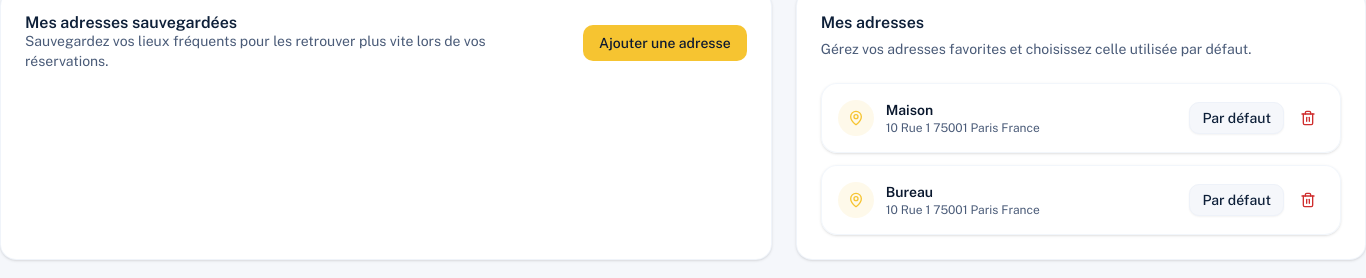
it: UserAddressesManager flows › sets an address as default
This screenshot has width=1366, height=278.
Click the button "Par défaut" in the row of "Bureau" at (1237, 200), box [1189,184,1284,216]
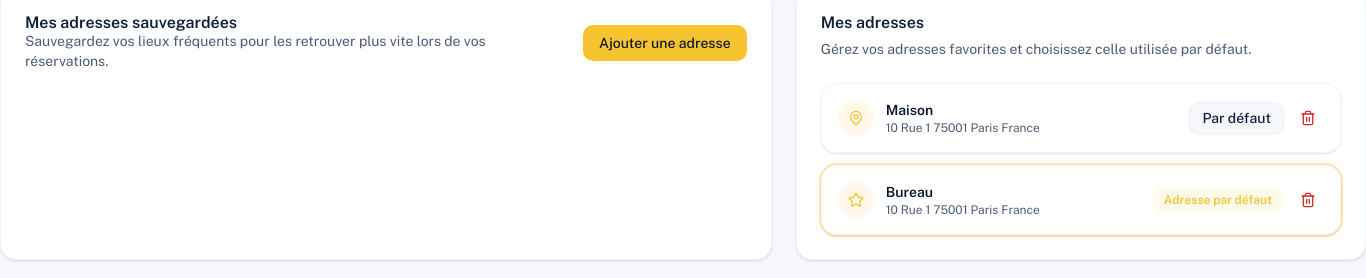
Result: the text "Adresse par défaut" is shown at [1152,188,1284,212]
